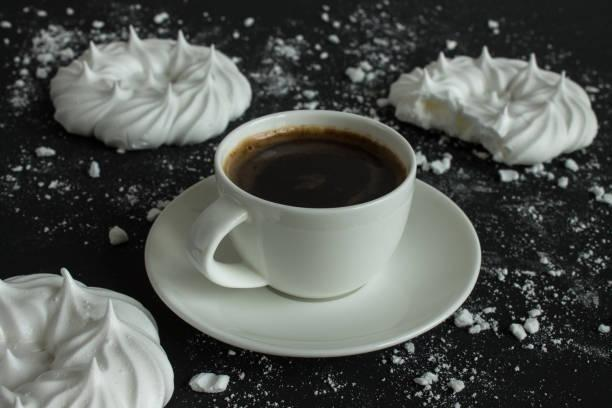cup-handle: (185, 107, 418, 301)
